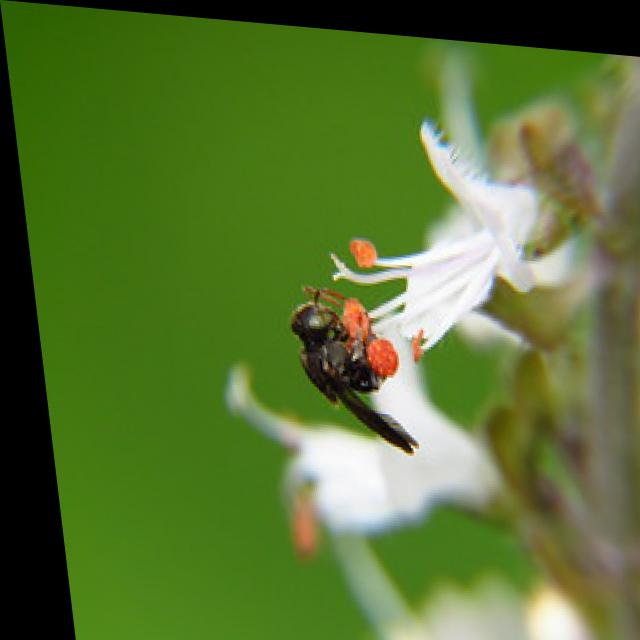Abeille: (259, 264, 431, 470)
